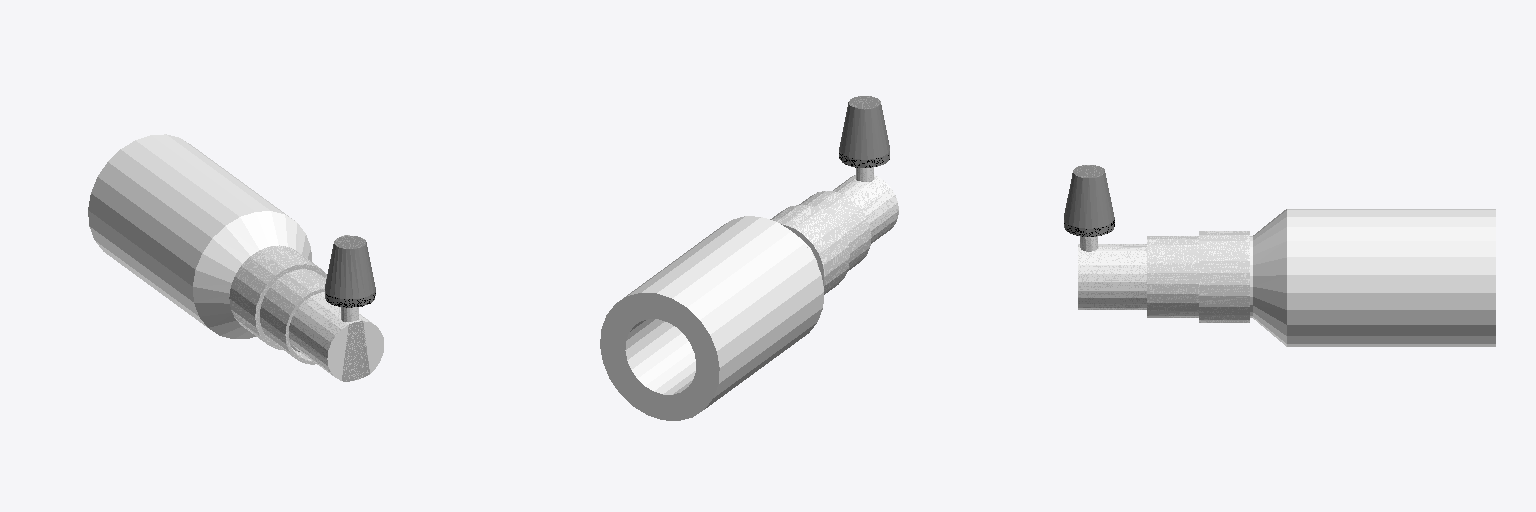
File: model_align.obj
The picture shows the model from 3 angles: view 1: azimuth 30°, elevation 25°; view 2: azimuth 150°, elevation 25°; view 3: azimuth 270°, elevation 25°; orthographic projection.
Size of the model in its own units: 0.0746 by 0.1005 by 0.2334.